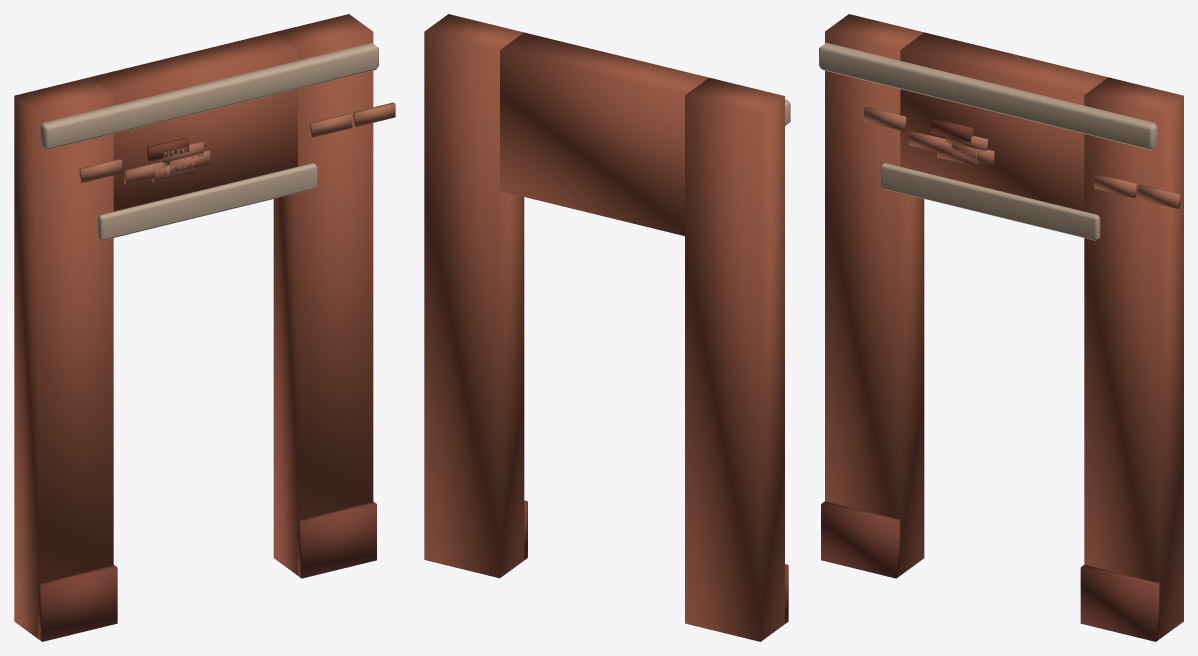
File: wall_2m_door.glb
3 renders of one model, left to right at view 1: azimuth 30°, elevation 25°; view 2: azimuth 150°, elevation 25°; view 3: azimuth 330°, elevation 25°, orthographic.
Parts seen in each view (by area): view 1: wall_2m_door; view 2: wall_2m_door; view 3: wall_2m_door.
Boxes of the visible parts, x1,y1,x2,y2 form: wall_2m_door: (14, 14, 395, 641); wall_2m_door: (424, 14, 790, 641); wall_2m_door: (819, 14, 1183, 641).
Size of the model in its own units: 2.12 by 3 by 0.33.
